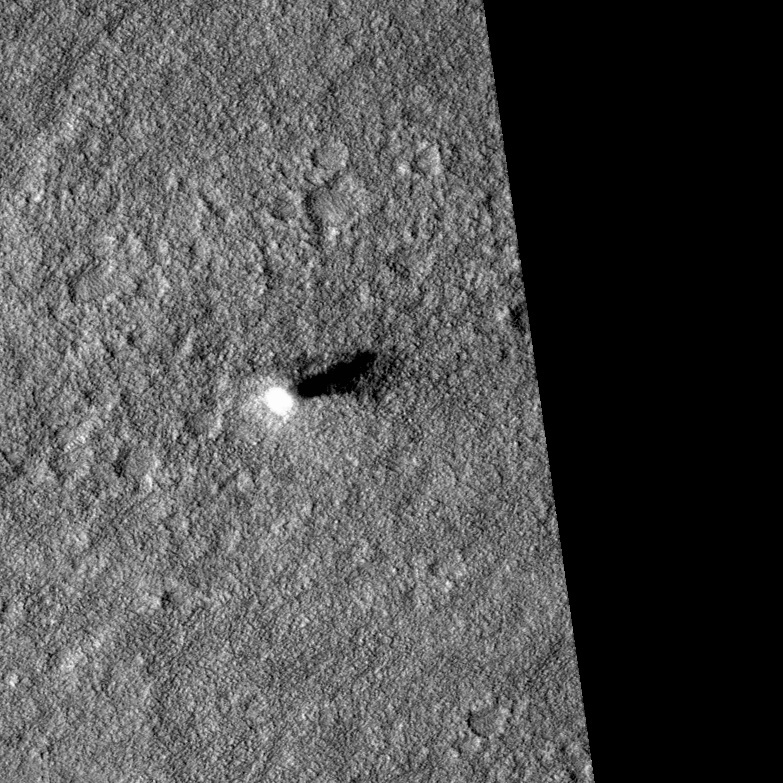dust_devil: (260, 347, 391, 418)
